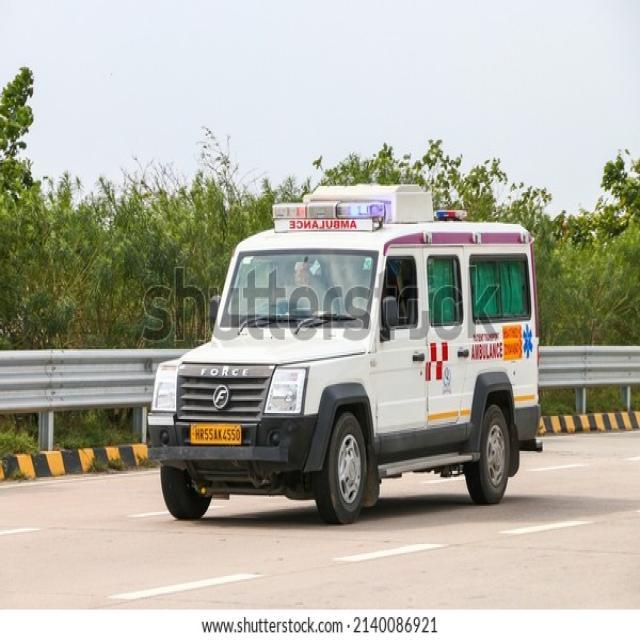ambulance: (154, 180, 542, 524)
